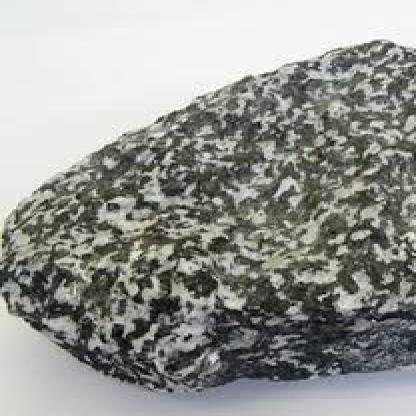Igneous_Diorite: (2, 31, 414, 402)
